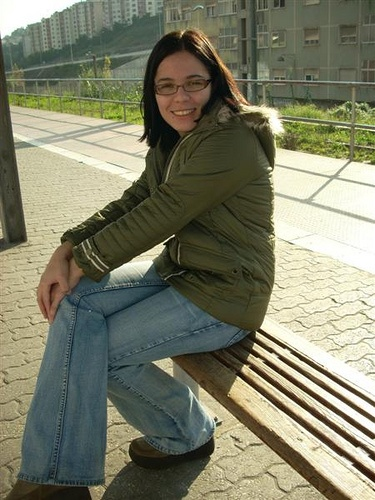head: (150, 30, 220, 132)
person: (3, 25, 280, 500)
